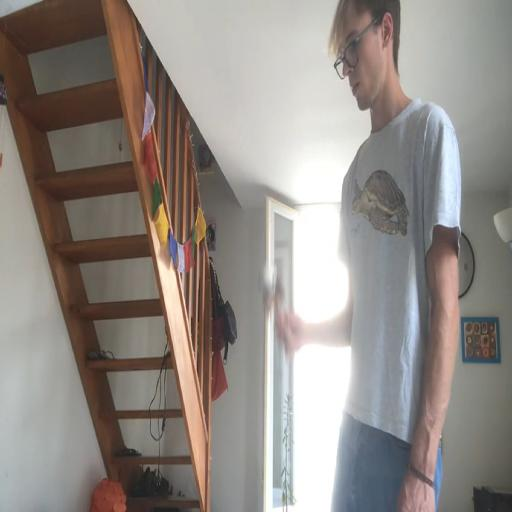kendama_ball: (259, 262, 277, 296)
